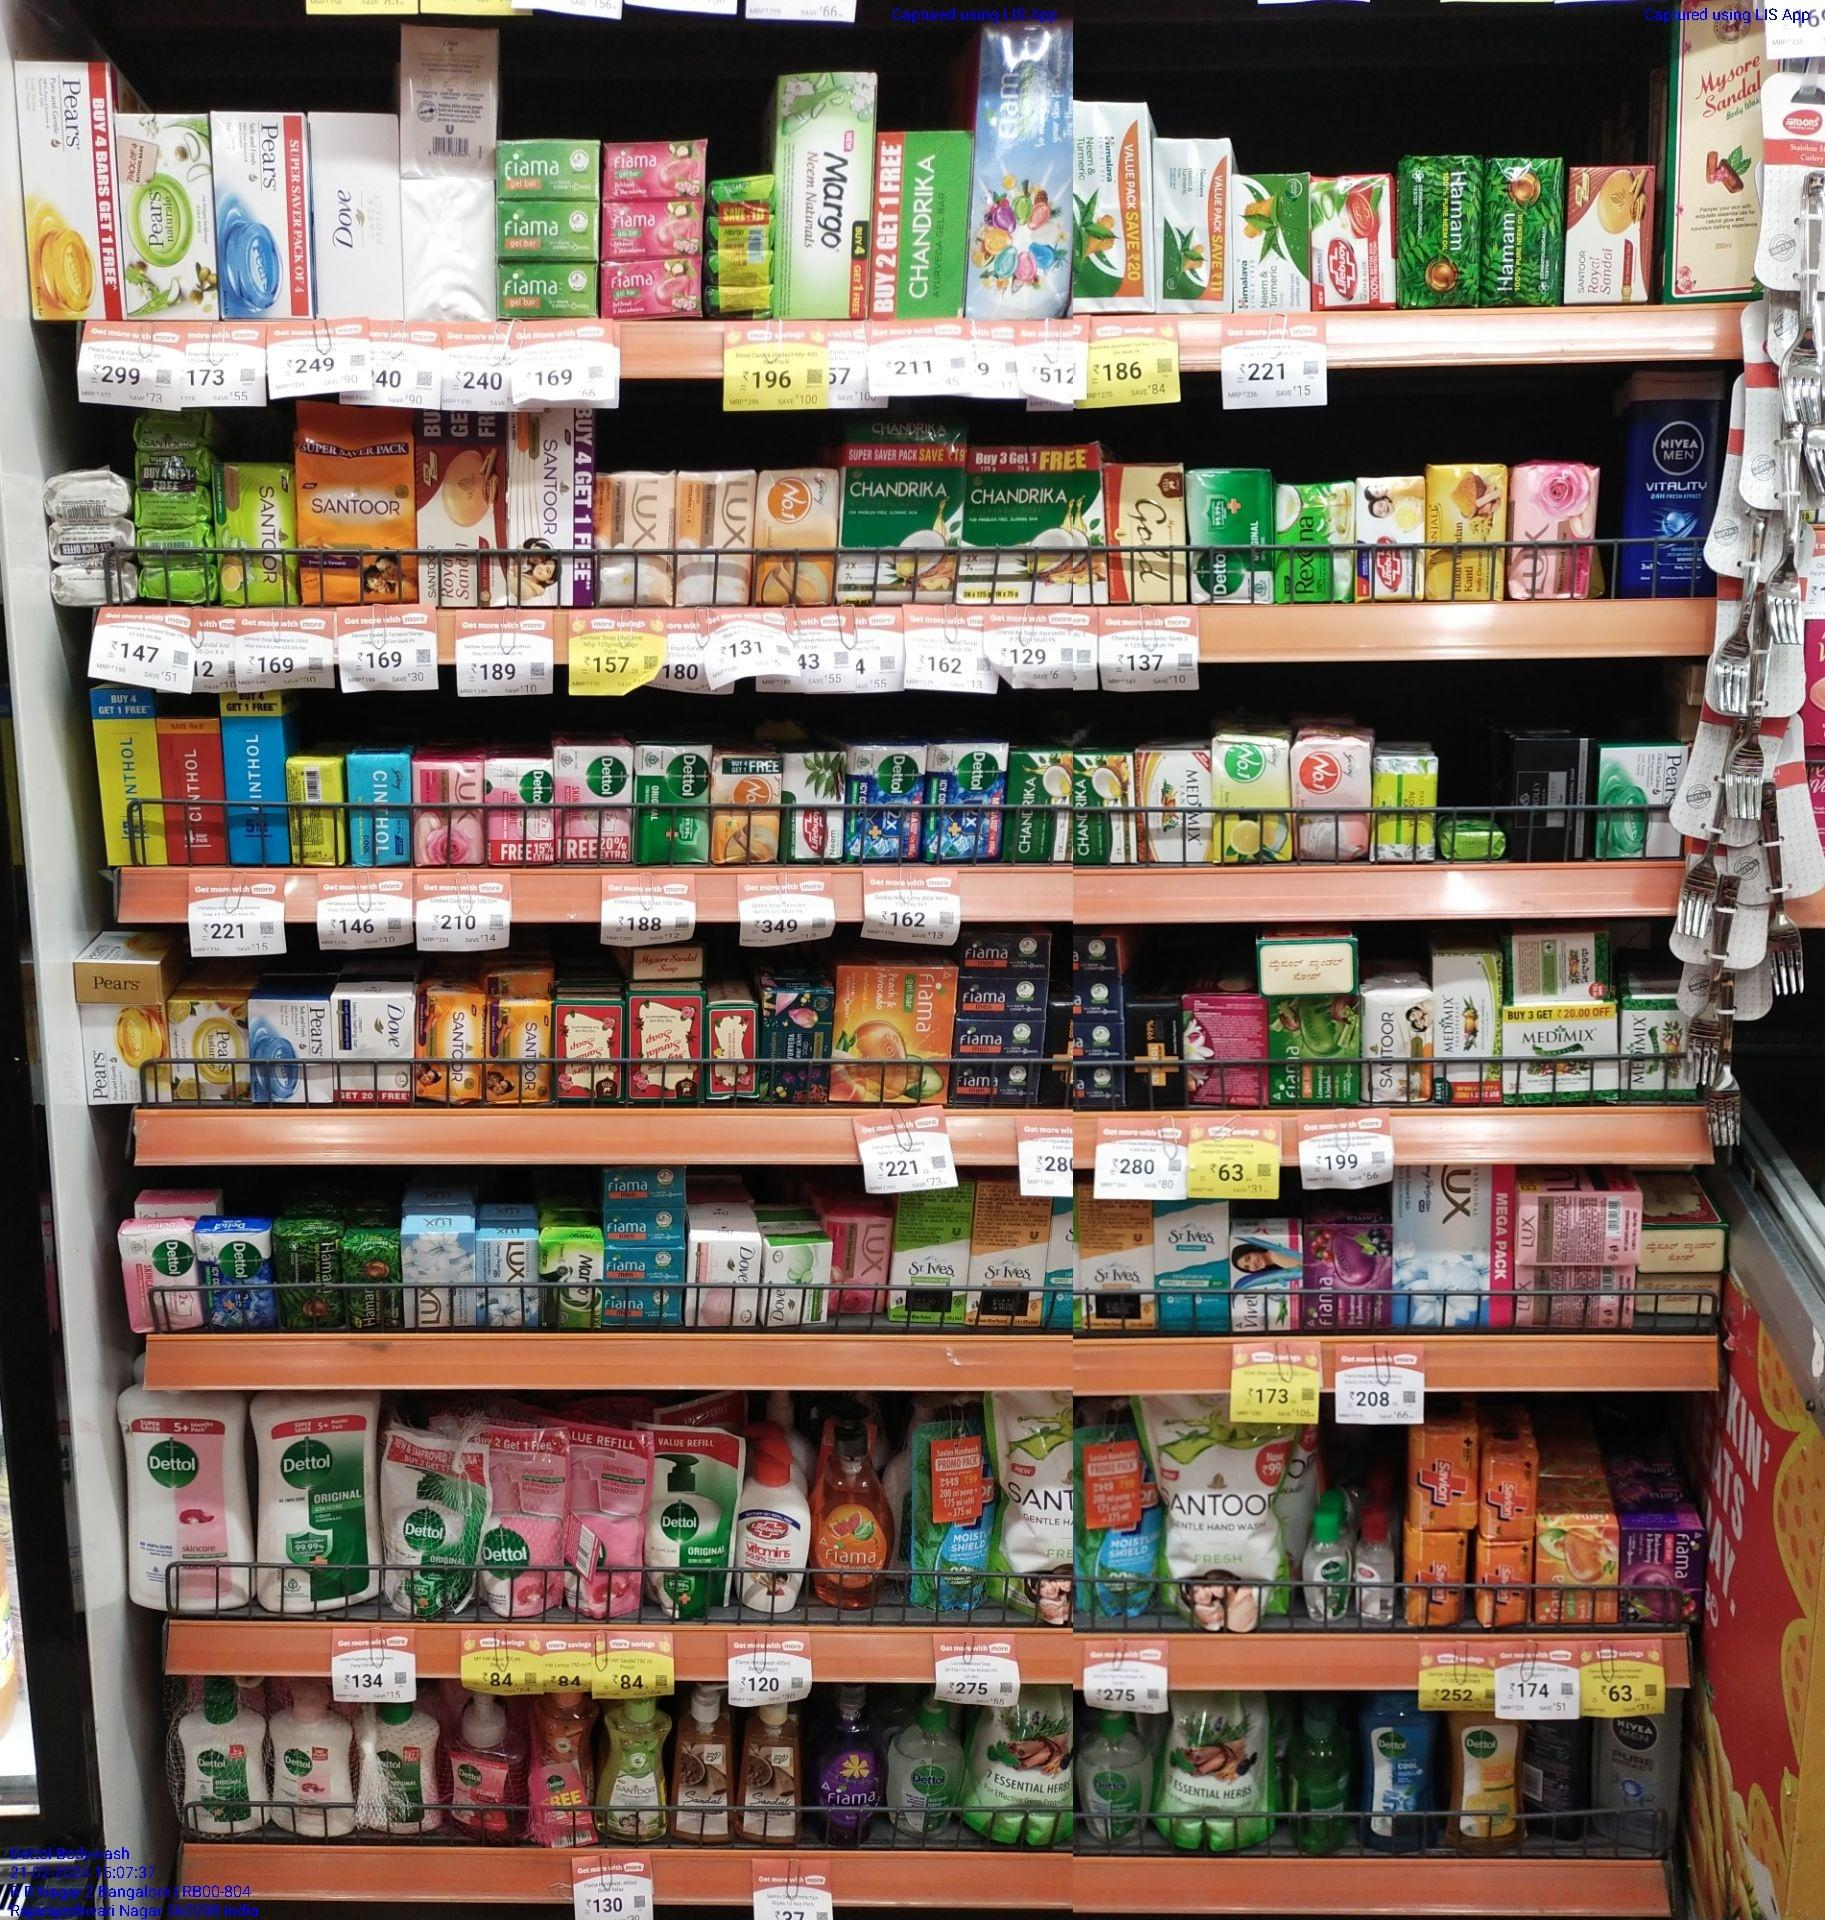Dettol_Bodywash_Cool: (1357, 1694, 1436, 1853)
Dettol_Bodywash_Refresh: (1445, 1709, 1529, 1855)
